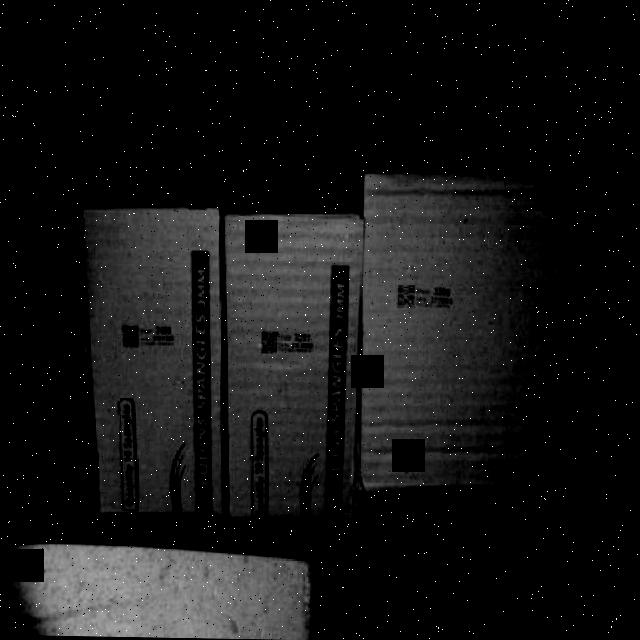box: (360, 174, 574, 496), (78, 205, 234, 511), (222, 213, 362, 518)
